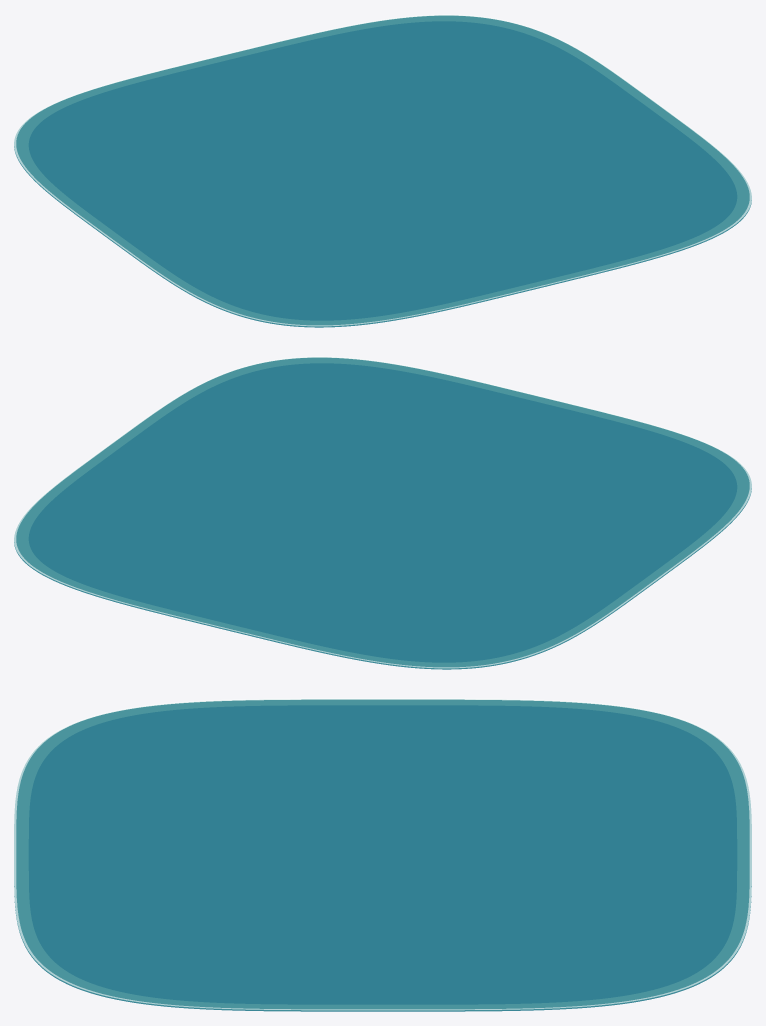
The model's file is tide-water.glb.
The picture shows the model from 3 angles, top to bottom: view 1: azimuth 30°, elevation 25°; view 2: azimuth 150°, elevation 25°; view 3: azimuth 270°, elevation 25°; orthographic projection. The views are drawn at different scales.
Parts seen in each view (by area): view 1: tide water, tide foam, tide lip; view 2: tide water, tide foam, tide lip; view 3: tide water, tide foam, tide lip.
Boxes of the visible parts, x1=… form: tide water: x1=14, y1=15, x2=751, y2=327; tide foam: x1=14, y1=15, x2=751, y2=326; tide lip: x1=14, y1=14, x2=751, y2=326; tide water: x1=14, y1=357, x2=751, y2=669; tide foam: x1=14, y1=357, x2=751, y2=668; tide lip: x1=14, y1=356, x2=751, y2=668; tide water: x1=14, y1=699, x2=751, y2=1011; tide foam: x1=14, y1=699, x2=751, y2=1010; tide lip: x1=14, y1=698, x2=751, y2=1010.
Size of the model in its own units: 2 by 0.004 by 2.
